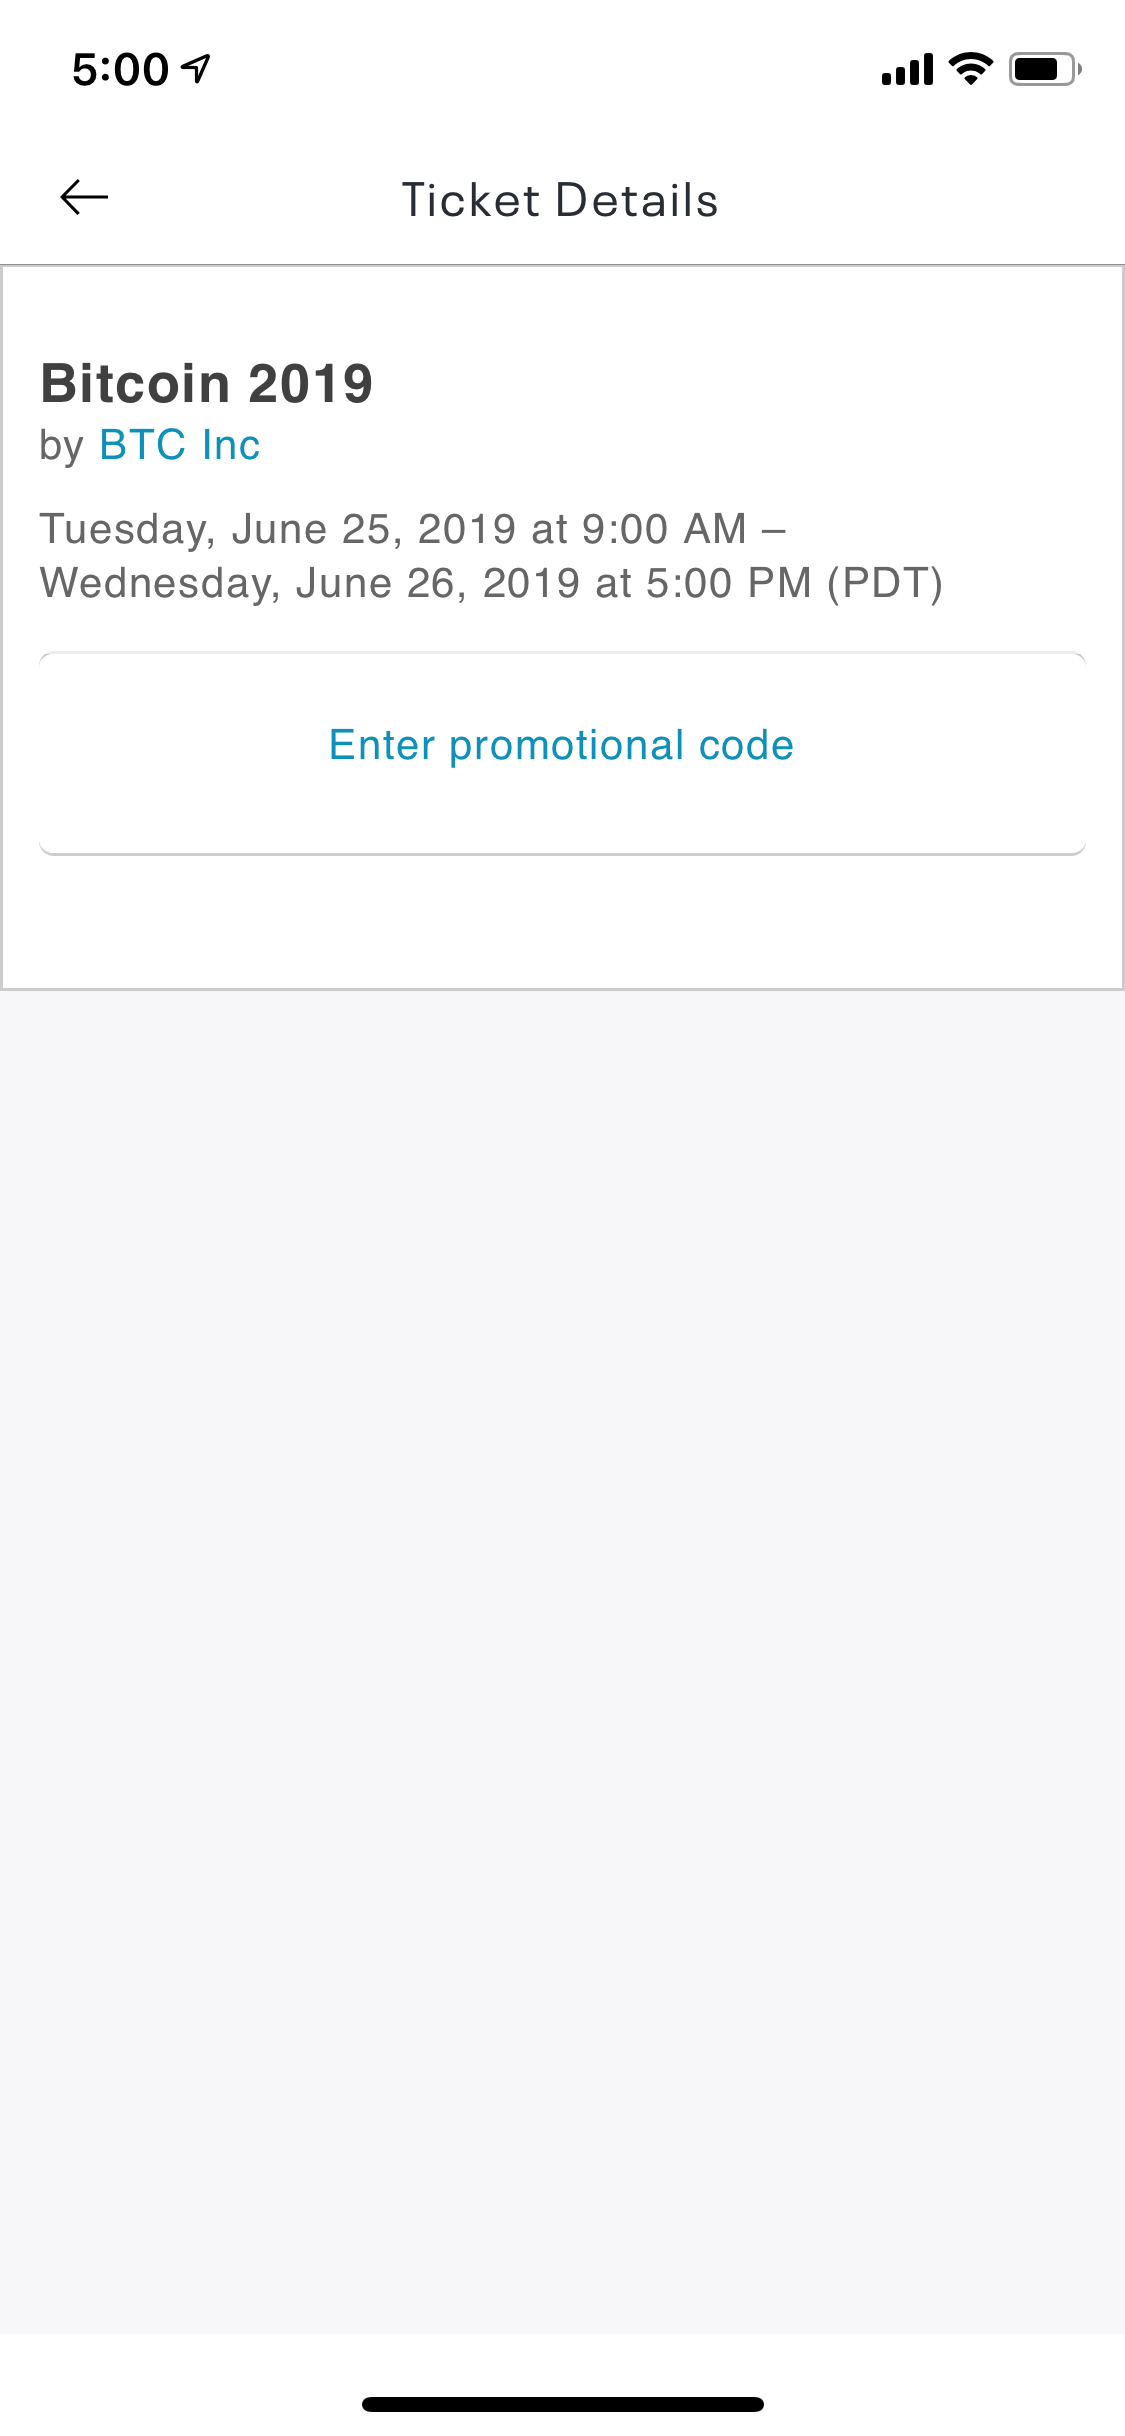Buttons: (17, 640, 1102, 879), (26, 129, 155, 256)
